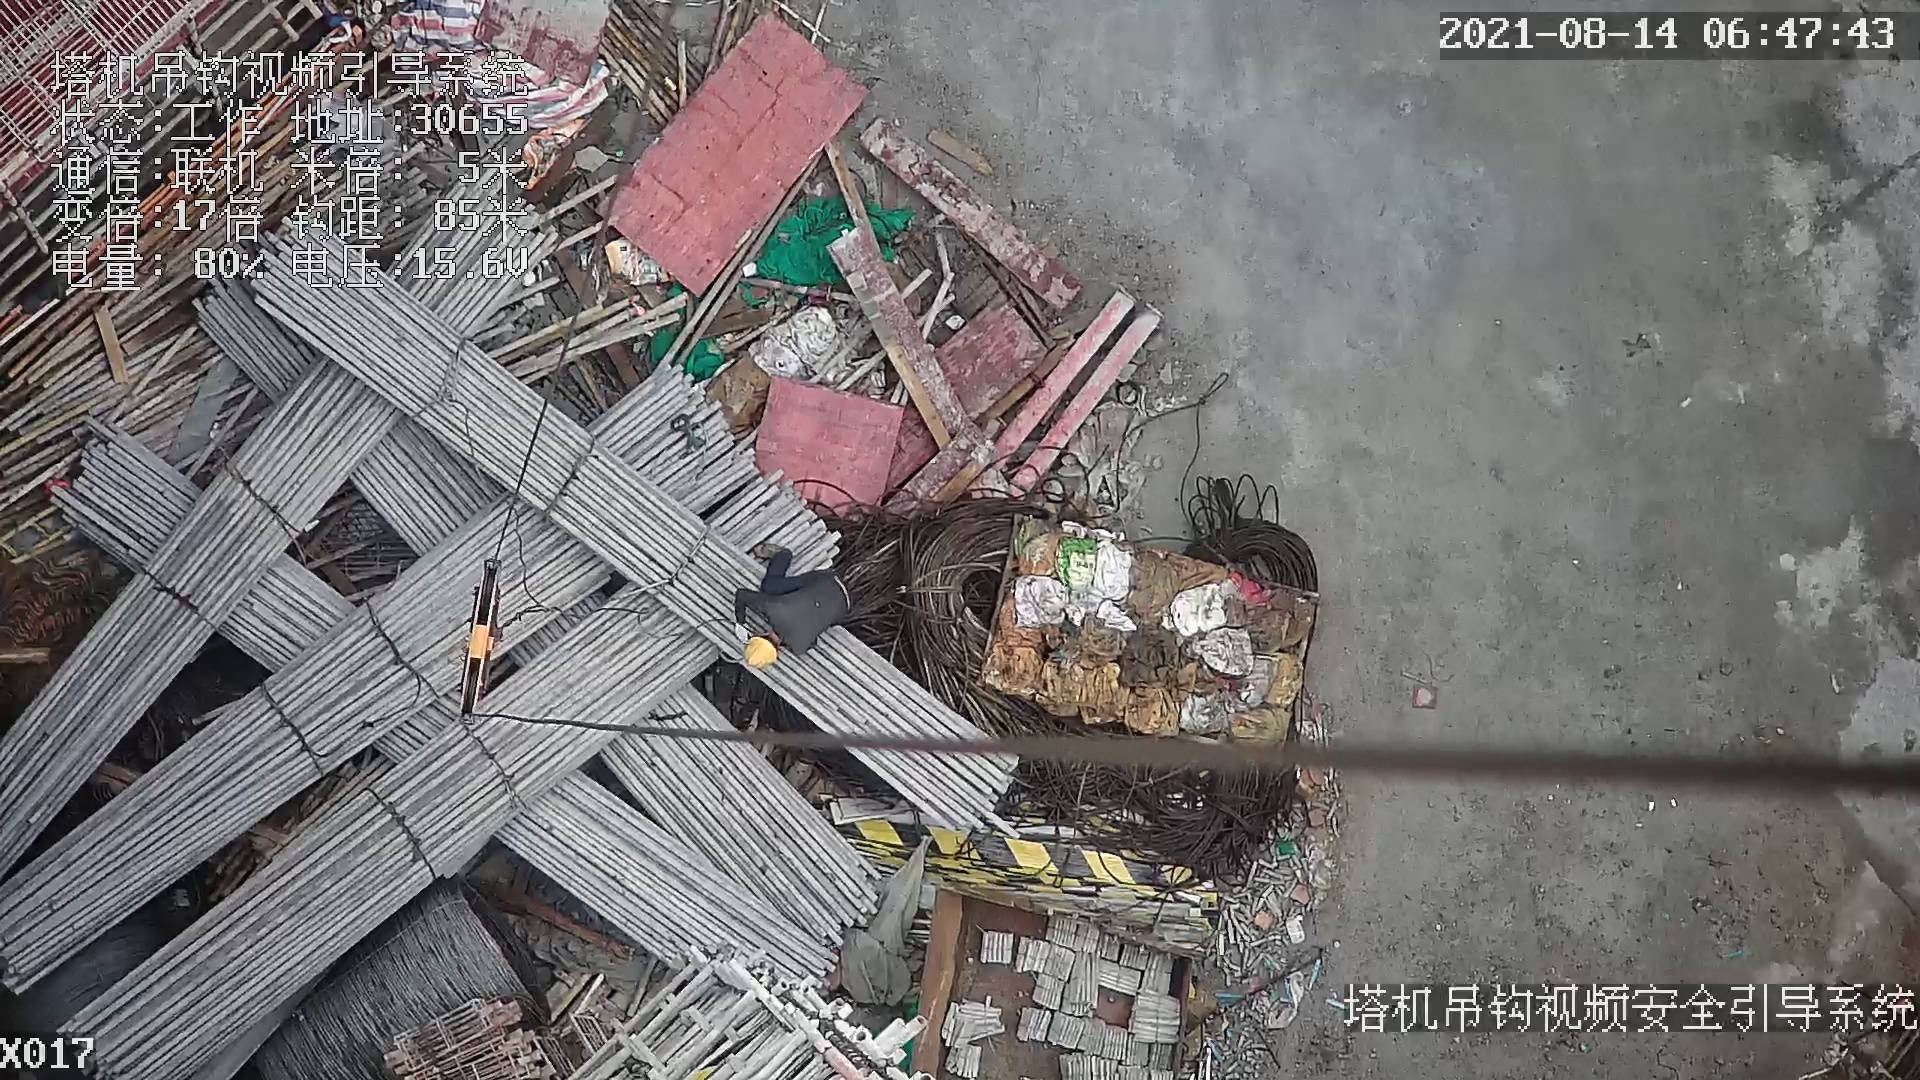board: (601, 13, 874, 304)
helmet: (741, 635, 781, 672)
hook: (456, 555, 518, 732)
person: (726, 537, 856, 676)
